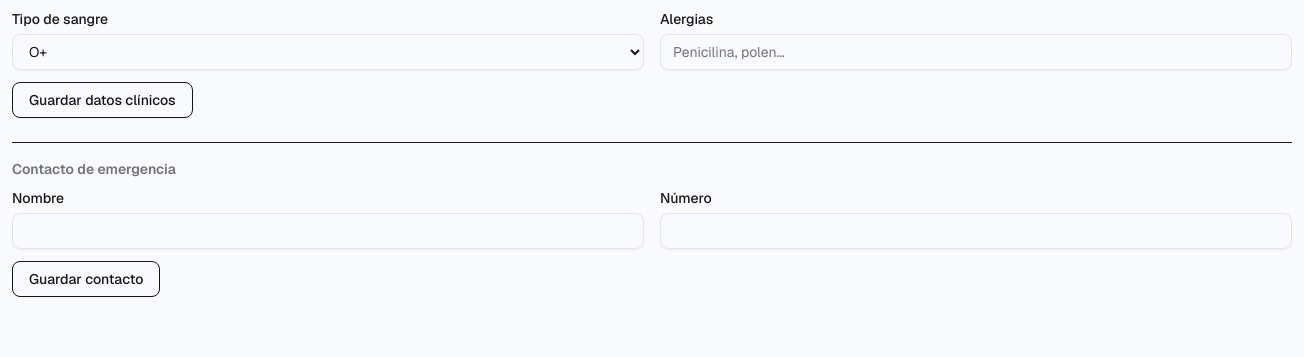
Test case: Datos clínicos del paciente › guarda alergias junto al tipo de sangre (PATCH patients/me)
The width and height of the screenshot is (1304, 357).
Step 1. Type "Penicilina" into the field labelled "Alergias" → [976, 52], box x1=660 y1=34 x2=1292 y2=70
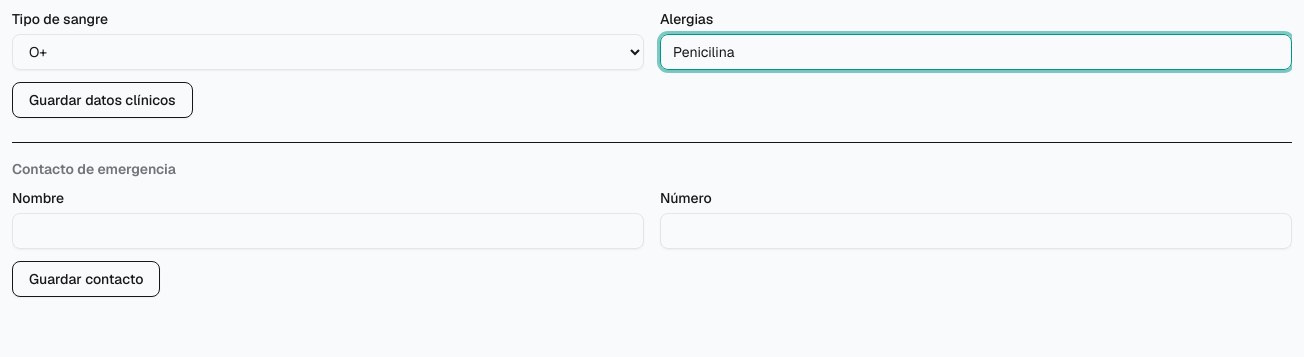
Step 2. Click the button with test id "clinicos-guardar" → [102, 100], box x1=12 y1=82 x2=193 y2=118
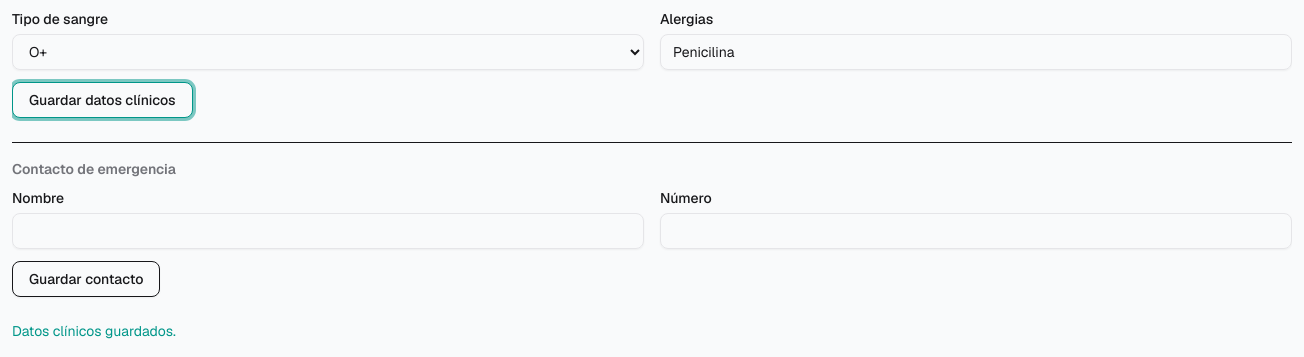
Expected: the message with test id "clinicos-mensaje" shows "Datos clínicos guardados", x1=12 y1=322 x2=176 y2=340
